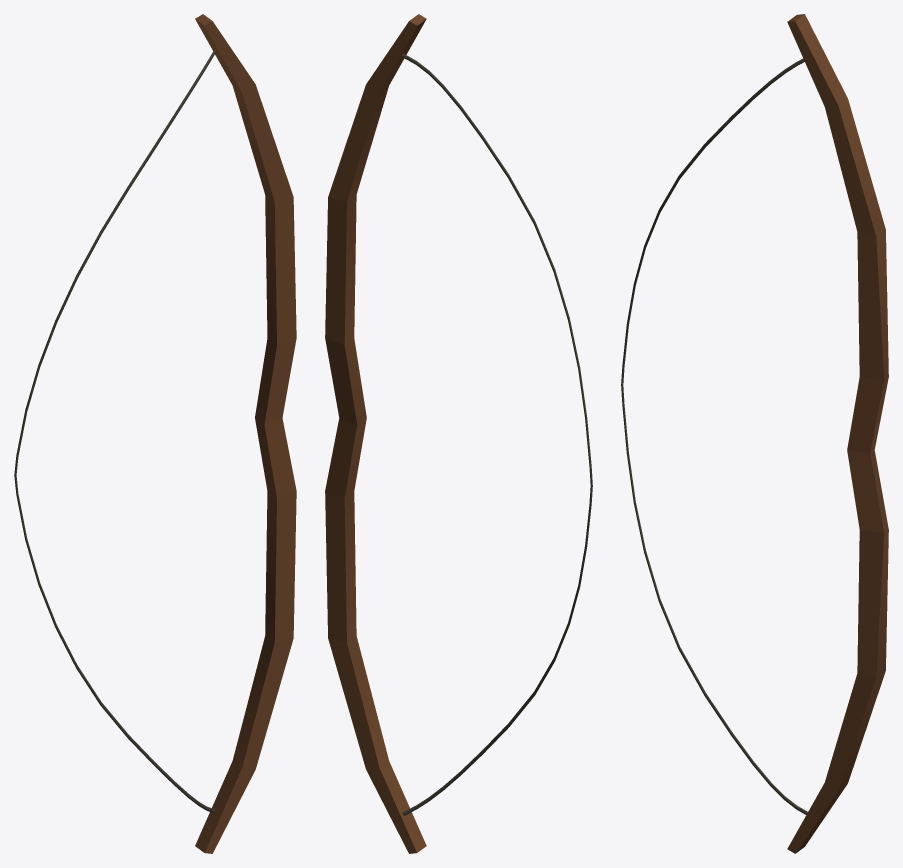
The model's file is SM_bow.FBX.
3 views of the same model, side by side, from view 1: azimuth 30°, elevation 25°; view 2: azimuth 150°, elevation 25°; view 3: azimuth 330°, elevation 25° (orthographic).
Visible parts, largest first — view 1: Plane001; view 2: Plane001; view 3: Plane001.
Part boxes in pixels (x1,y1,x2,y2): Plane001: (14, 14, 296, 853); Plane001: (325, 14, 592, 853); Plane001: (621, 14, 888, 853).
Size of the model in its own units: 49.95 by 146 by 5.13.
